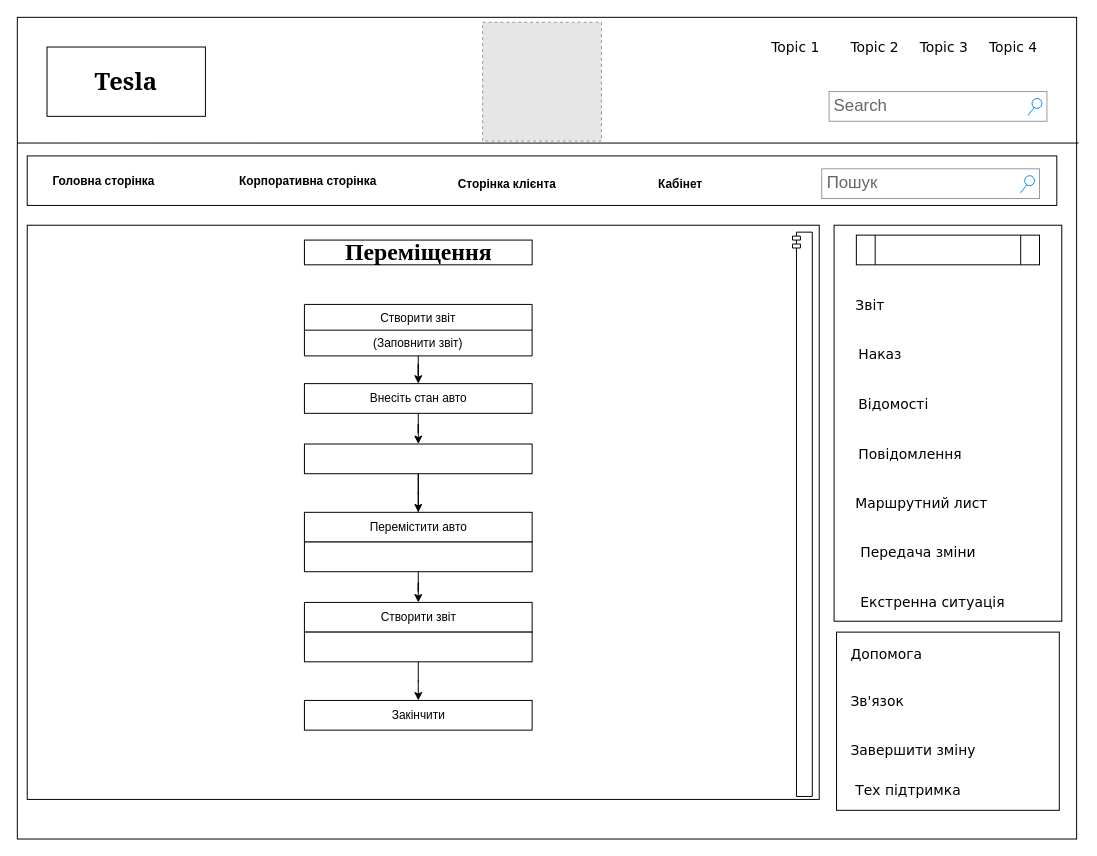
Some shapes in this 1097 by 856 pixel diagram are drawn without their labels. Grey dashed boxes stand in for pictures. The box of each missing label's shape, as (x1, y1, x2, y2) in pixels:
(Заповнити): (303, 631, 532, 662)
(Переміщення): (303, 541, 532, 572)
Функції: (855, 234, 1040, 265)
Фіксація стану: (303, 443, 532, 474)
